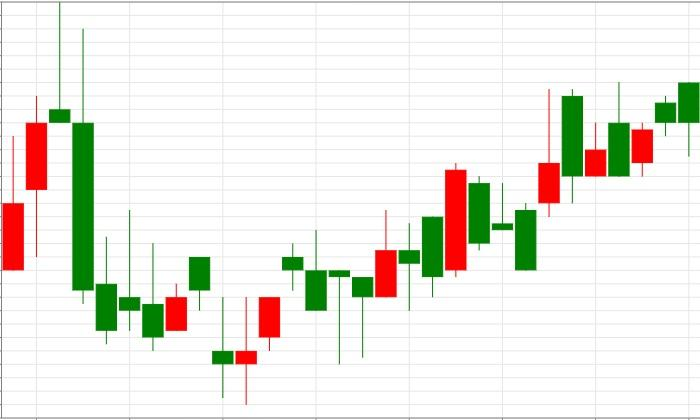inverse_hammer_rise: (49, 1, 164, 351)
